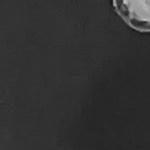colony: (105, 0, 150, 46)
